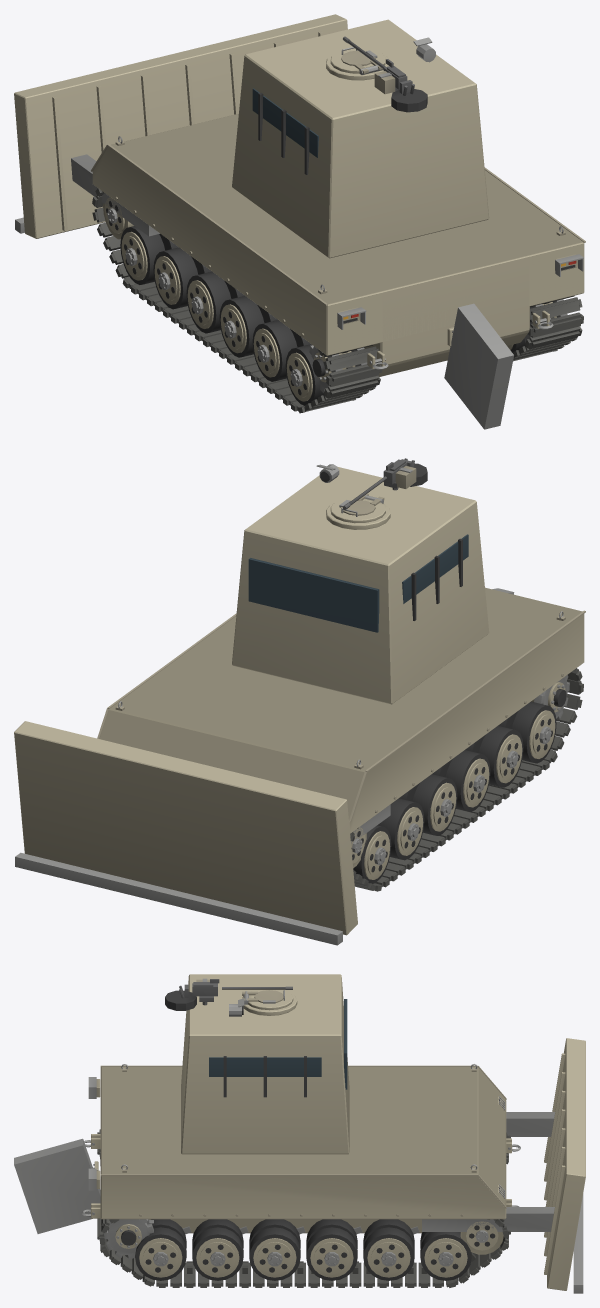
The model's file is usa_eng_d7.glb.
3 renders of one model, top to bottom at view 1: azimuth 30°, elevation 25°; view 2: azimuth 150°, elevation 25°; view 3: azimuth 270°, elevation 25°, orthographic. The views are drawn at different scales.
Parts seen in each view (by area): view 1: body, barrel, turret; view 2: body, barrel; view 3: body, barrel, turret.
Boxes of the visible parts, <box> form: body: <box>14,14,585,429</box>; barrel: <box>343,36,414,95</box>; turret: <box>391,89,427,112</box>; body: <box>14,464,585,945</box>; barrel: <box>342,458,416,509</box>; body: <box>14,974,585,1293</box>; barrel: <box>179,978,292,1005</box>; turret: <box>165,990,196,1010</box>.
Bounding box in the file's own units: 4 × 3.51 × 7.12.
